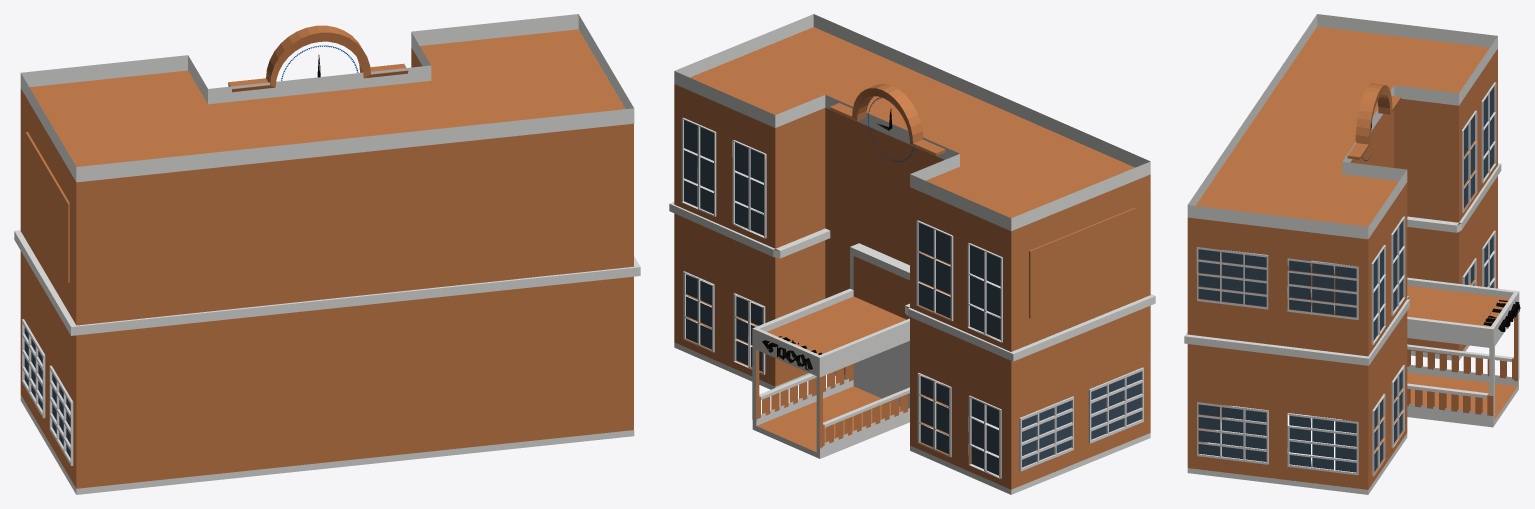
Rendered from School.glb.
3 renders of one model, left to right at view 1: azimuth 30°, elevation 25°; view 2: azimuth 150°, elevation 25°; view 3: azimuth 270°, elevation 25°, orthographic. The views are drawn at different scales.
Visible parts, largest first — view 1: School; view 2: School; view 3: School.
Part boxes in pixels (x1,y1,x2,y2): School: (14,14,640,494); School: (669,14,1155,494); School: (1184,14,1520,494).
Bounding box in the file's own units: 287 × 187 × 187.
Materials: 1 (1 with a texture image).
